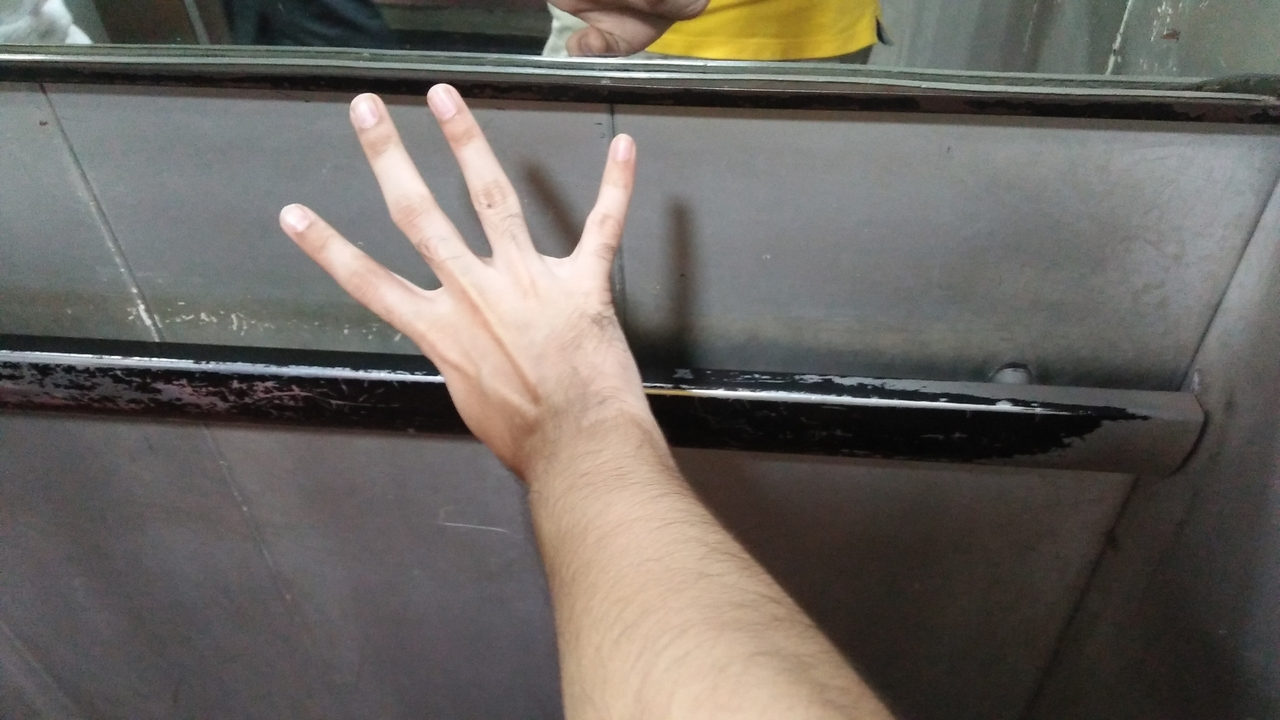fingertip: (334, 80, 396, 138), (412, 70, 478, 124), (264, 190, 328, 244), (594, 118, 646, 166)
